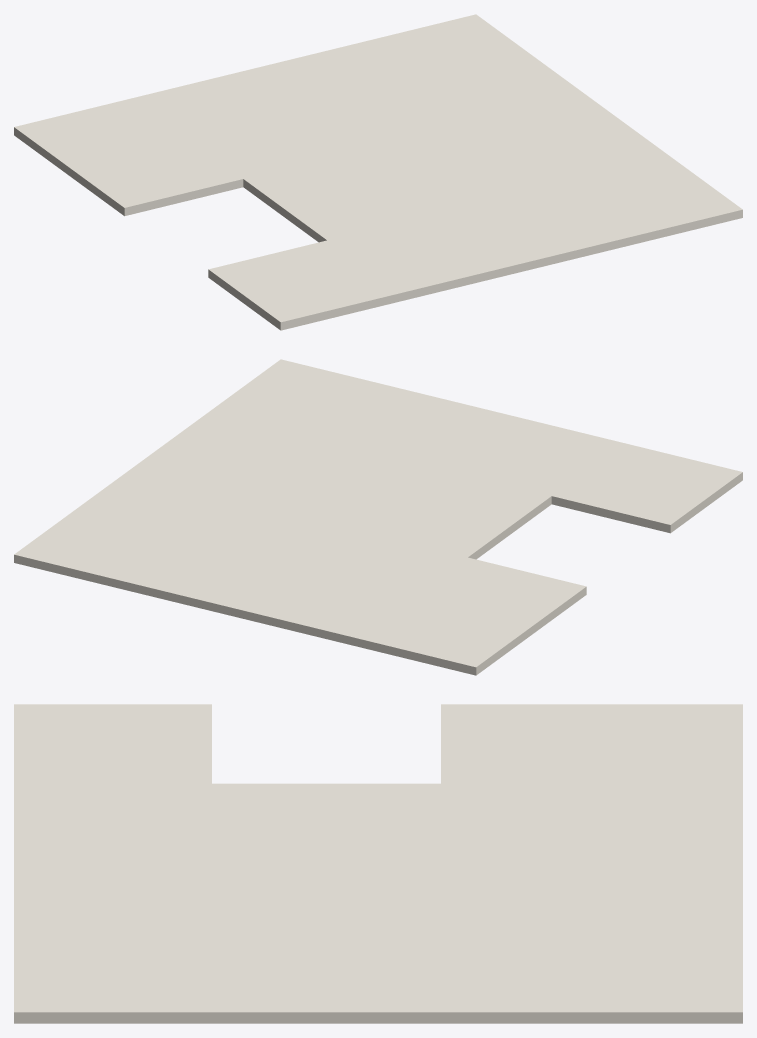
File: storey-upper.glb
The picture shows the model from 3 angles, top to bottom: view 1: azimuth 30°, elevation 25°; view 2: azimuth 150°, elevation 25°; view 3: azimuth 270°, elevation 25°; orthographic projection. The views are drawn at different scales.
Parts seen in each view (by area): view 1: storey-upper; view 2: storey-upper; view 3: storey-upper.
Part boxes in pixels (left/top/right/bottom): storey-upper: left=14, top=14, right=742, bottom=330; storey-upper: left=14, top=359, right=742, bottom=675; storey-upper: left=14, top=704, right=742, bottom=1023.
Bounding box in the file's own units: 14 × 0.24 × 14.
1 material, 1 textured.
